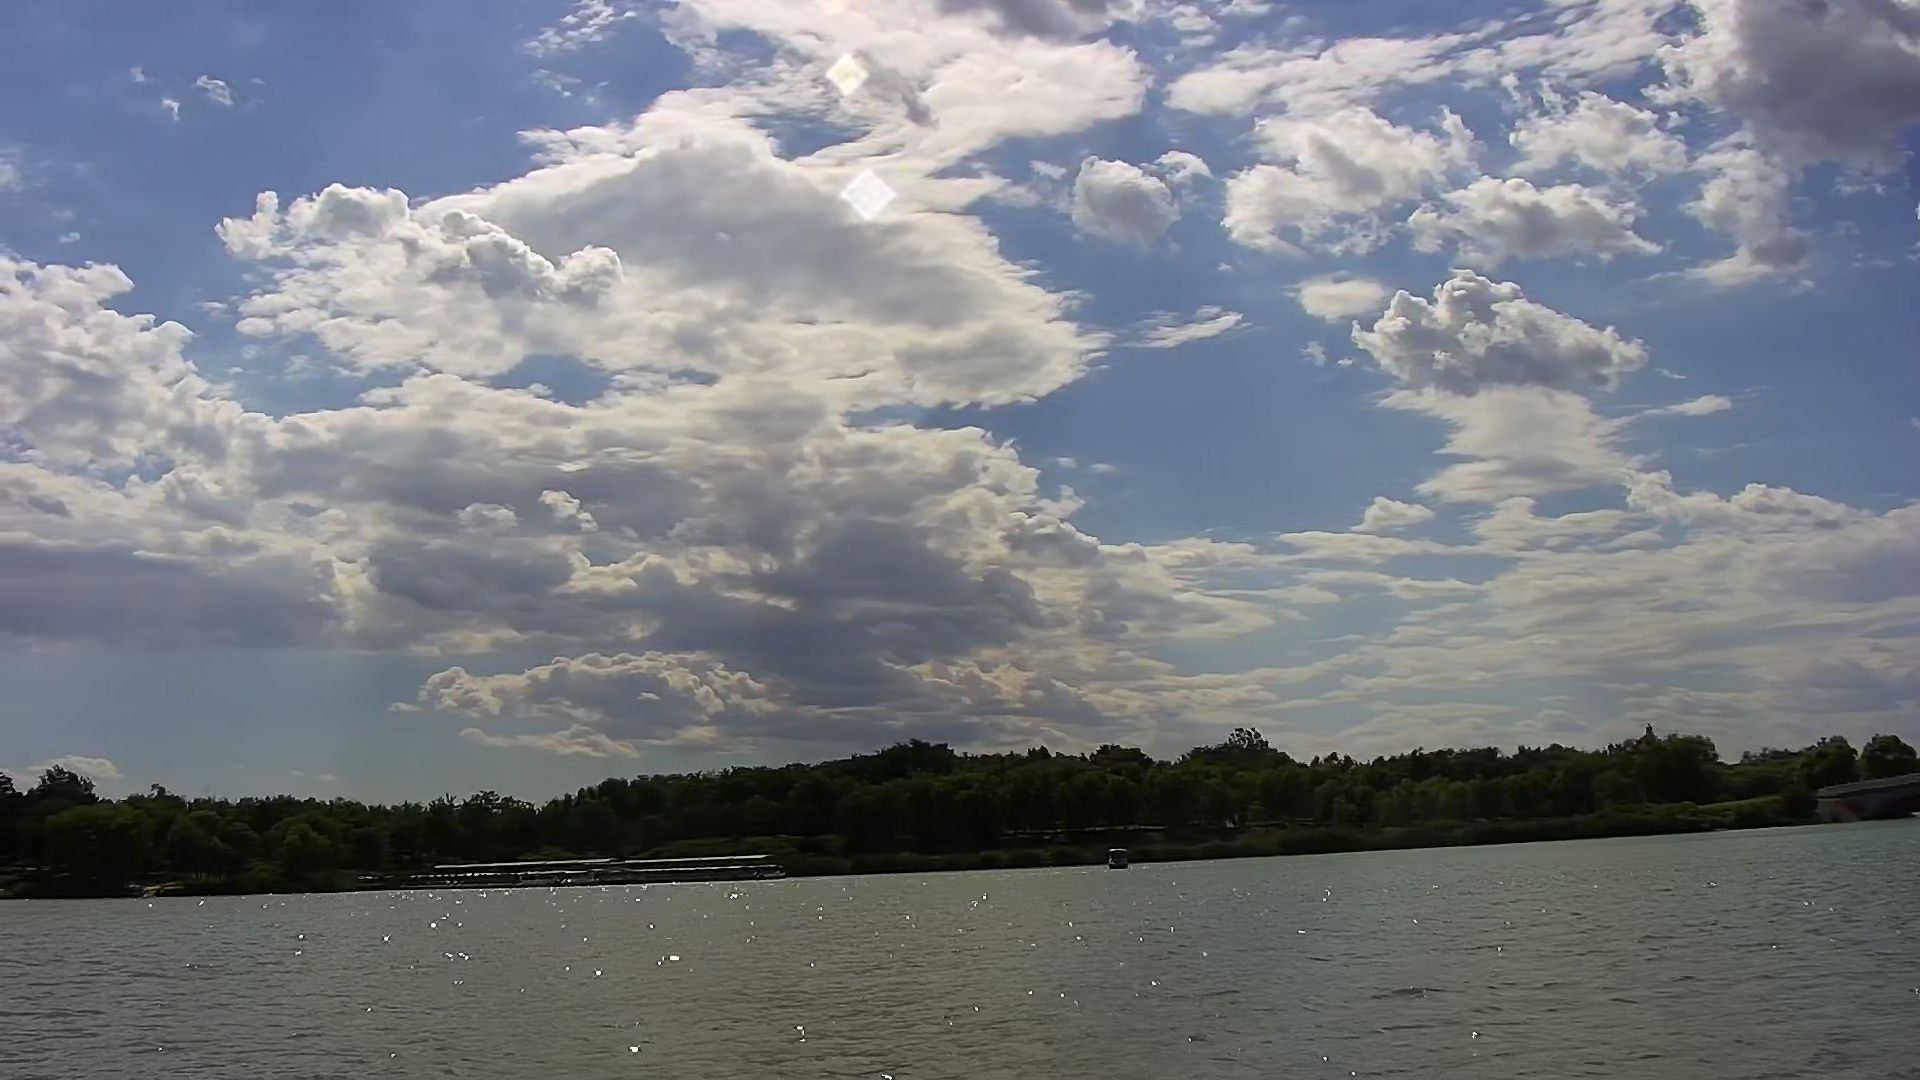boat: (1097, 845, 1133, 869)
bridge: (1820, 765, 1920, 825)
harbor: (423, 851, 787, 891)
